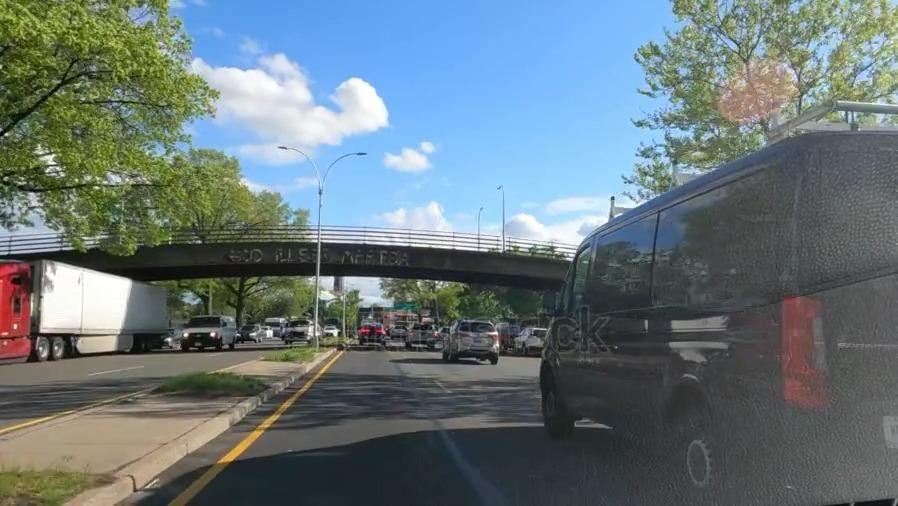car: (445, 318, 502, 363), (406, 322, 435, 351), (517, 324, 543, 355), (357, 323, 386, 350), (239, 321, 262, 341), (162, 331, 177, 351)
truck: (4, 255, 167, 360)
van: (533, 220, 898, 455), (179, 315, 236, 349), (286, 318, 315, 345)
wheel: (649, 407, 749, 505), (539, 367, 572, 443)
